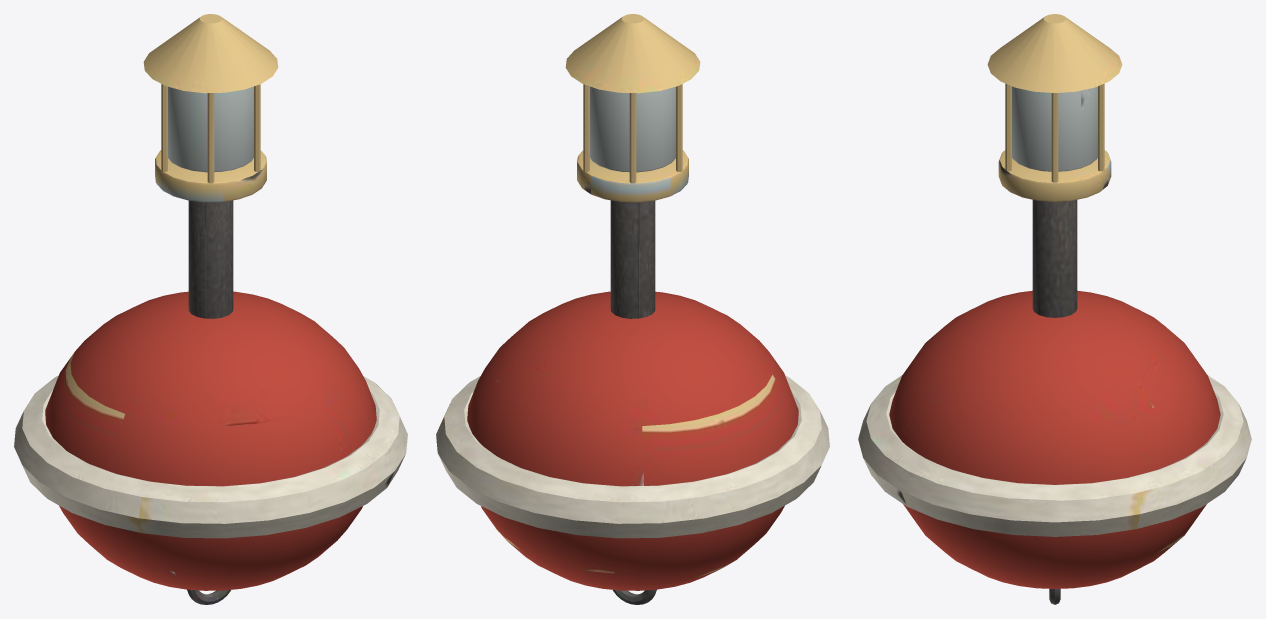
The model's file is buoy.glb.
3 views of the same model, side by side, from view 1: azimuth 30°, elevation 25°; view 2: azimuth 150°, elevation 25°; view 3: azimuth 270°, elevation 25° (orthographic).
Parts seen in each view (by area): view 1: float, stripe, lamp_cap, lamp_glass, post, lamp_base, cage4, cage5, cage3; view 2: float, stripe, lamp_cap, lamp_glass, post, lamp_base, cage2, cage1, cage3; view 3: float, stripe, lamp_cap, lamp_glass, post, lamp_base, cage0, cage1, cage5.
Boxes of the visible parts, box(x1,y1,x2,y2) form: float: box(45, 291, 376, 590); stripe: box(14, 375, 407, 538); lamp_cap: box(143, 14, 278, 93); lamp_glass: box(168, 86, 253, 172); post: box(188, 200, 233, 318); lamp_base: box(155, 150, 266, 202); cage4: box(207, 93, 214, 183); cage5: box(254, 84, 260, 171); cage3: box(161, 84, 167, 171); float: box(467, 291, 798, 590); stripe: box(436, 375, 829, 538); lamp_cap: box(565, 14, 700, 93); lamp_glass: box(590, 86, 675, 172); post: box(610, 200, 655, 318); lamp_base: box(577, 150, 688, 202); cage2: box(629, 93, 636, 183); cage1: box(583, 84, 589, 171); cage3: box(676, 84, 682, 171); float: box(889, 290, 1220, 588); stripe: box(858, 375, 1251, 536); lamp_cap: box(987, 14, 1122, 92); lamp_glass: box(1012, 86, 1097, 171); post: box(1032, 200, 1077, 317); lamp_base: box(998, 150, 1111, 201); cage0: box(1051, 93, 1058, 182); cage1: box(1098, 83, 1104, 171); cage5: box(1005, 83, 1011, 171).
Bounding box in the file's own units: 0.7 × 1.14 × 0.7.
Materials: 1 (1 with a texture image).
